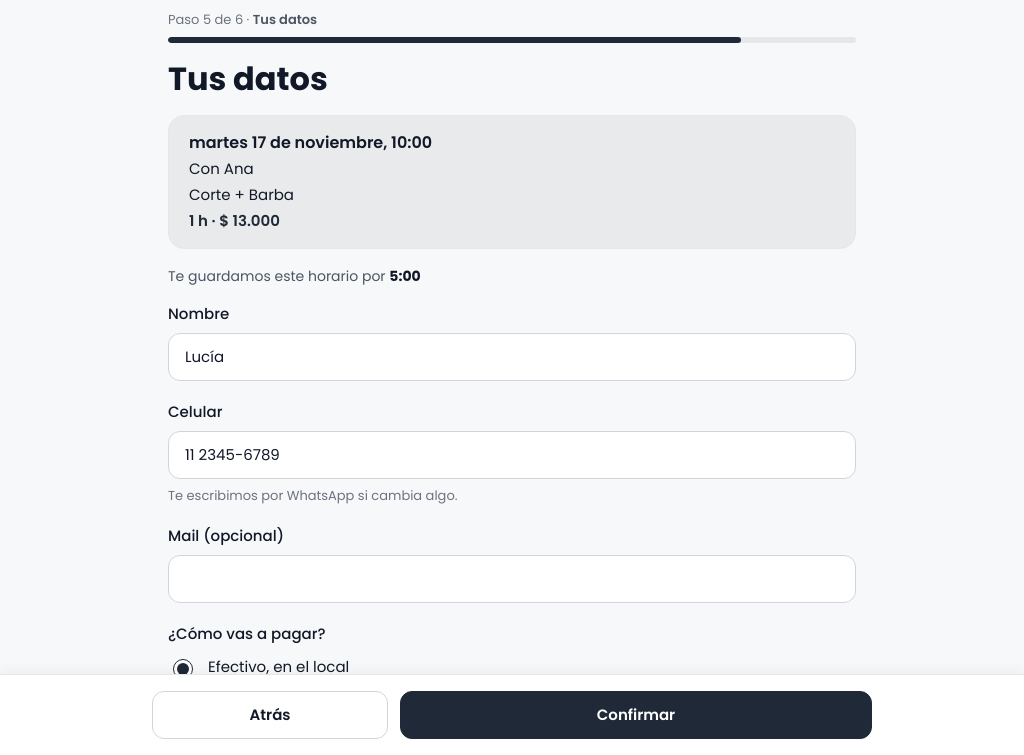
Scenario: Paso 5: tus datos › HU-10 CA2: sin aceptar la política no se envía y se marca el campo
The image size is (1024, 755).
Click the button "Confirmar" at {"x": 636, "y": 715}, box top-left (400, 691), bottom-right (872, 739)
(page scrolled)
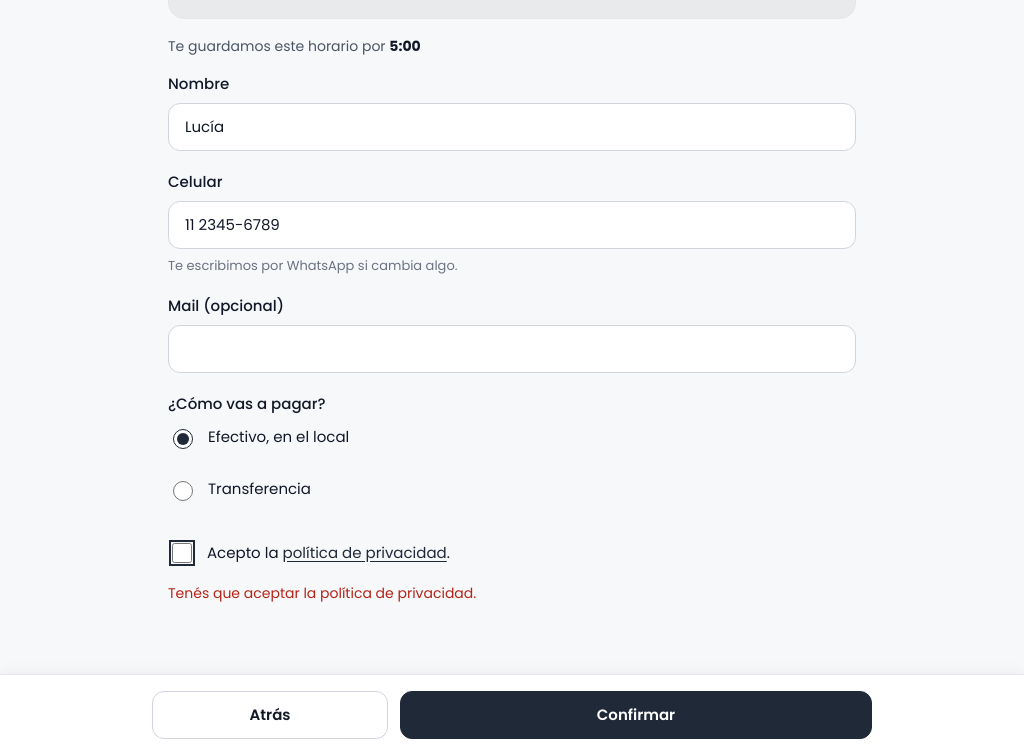
Now the text "Tenés que aceptar la política de privacidad." is shown, box top-left (168, 583), bottom-right (476, 603)
